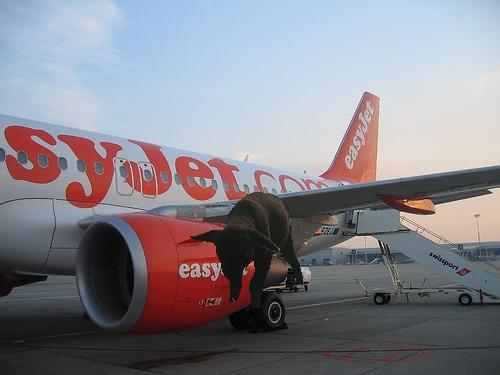tampered: (191, 193, 303, 308)
